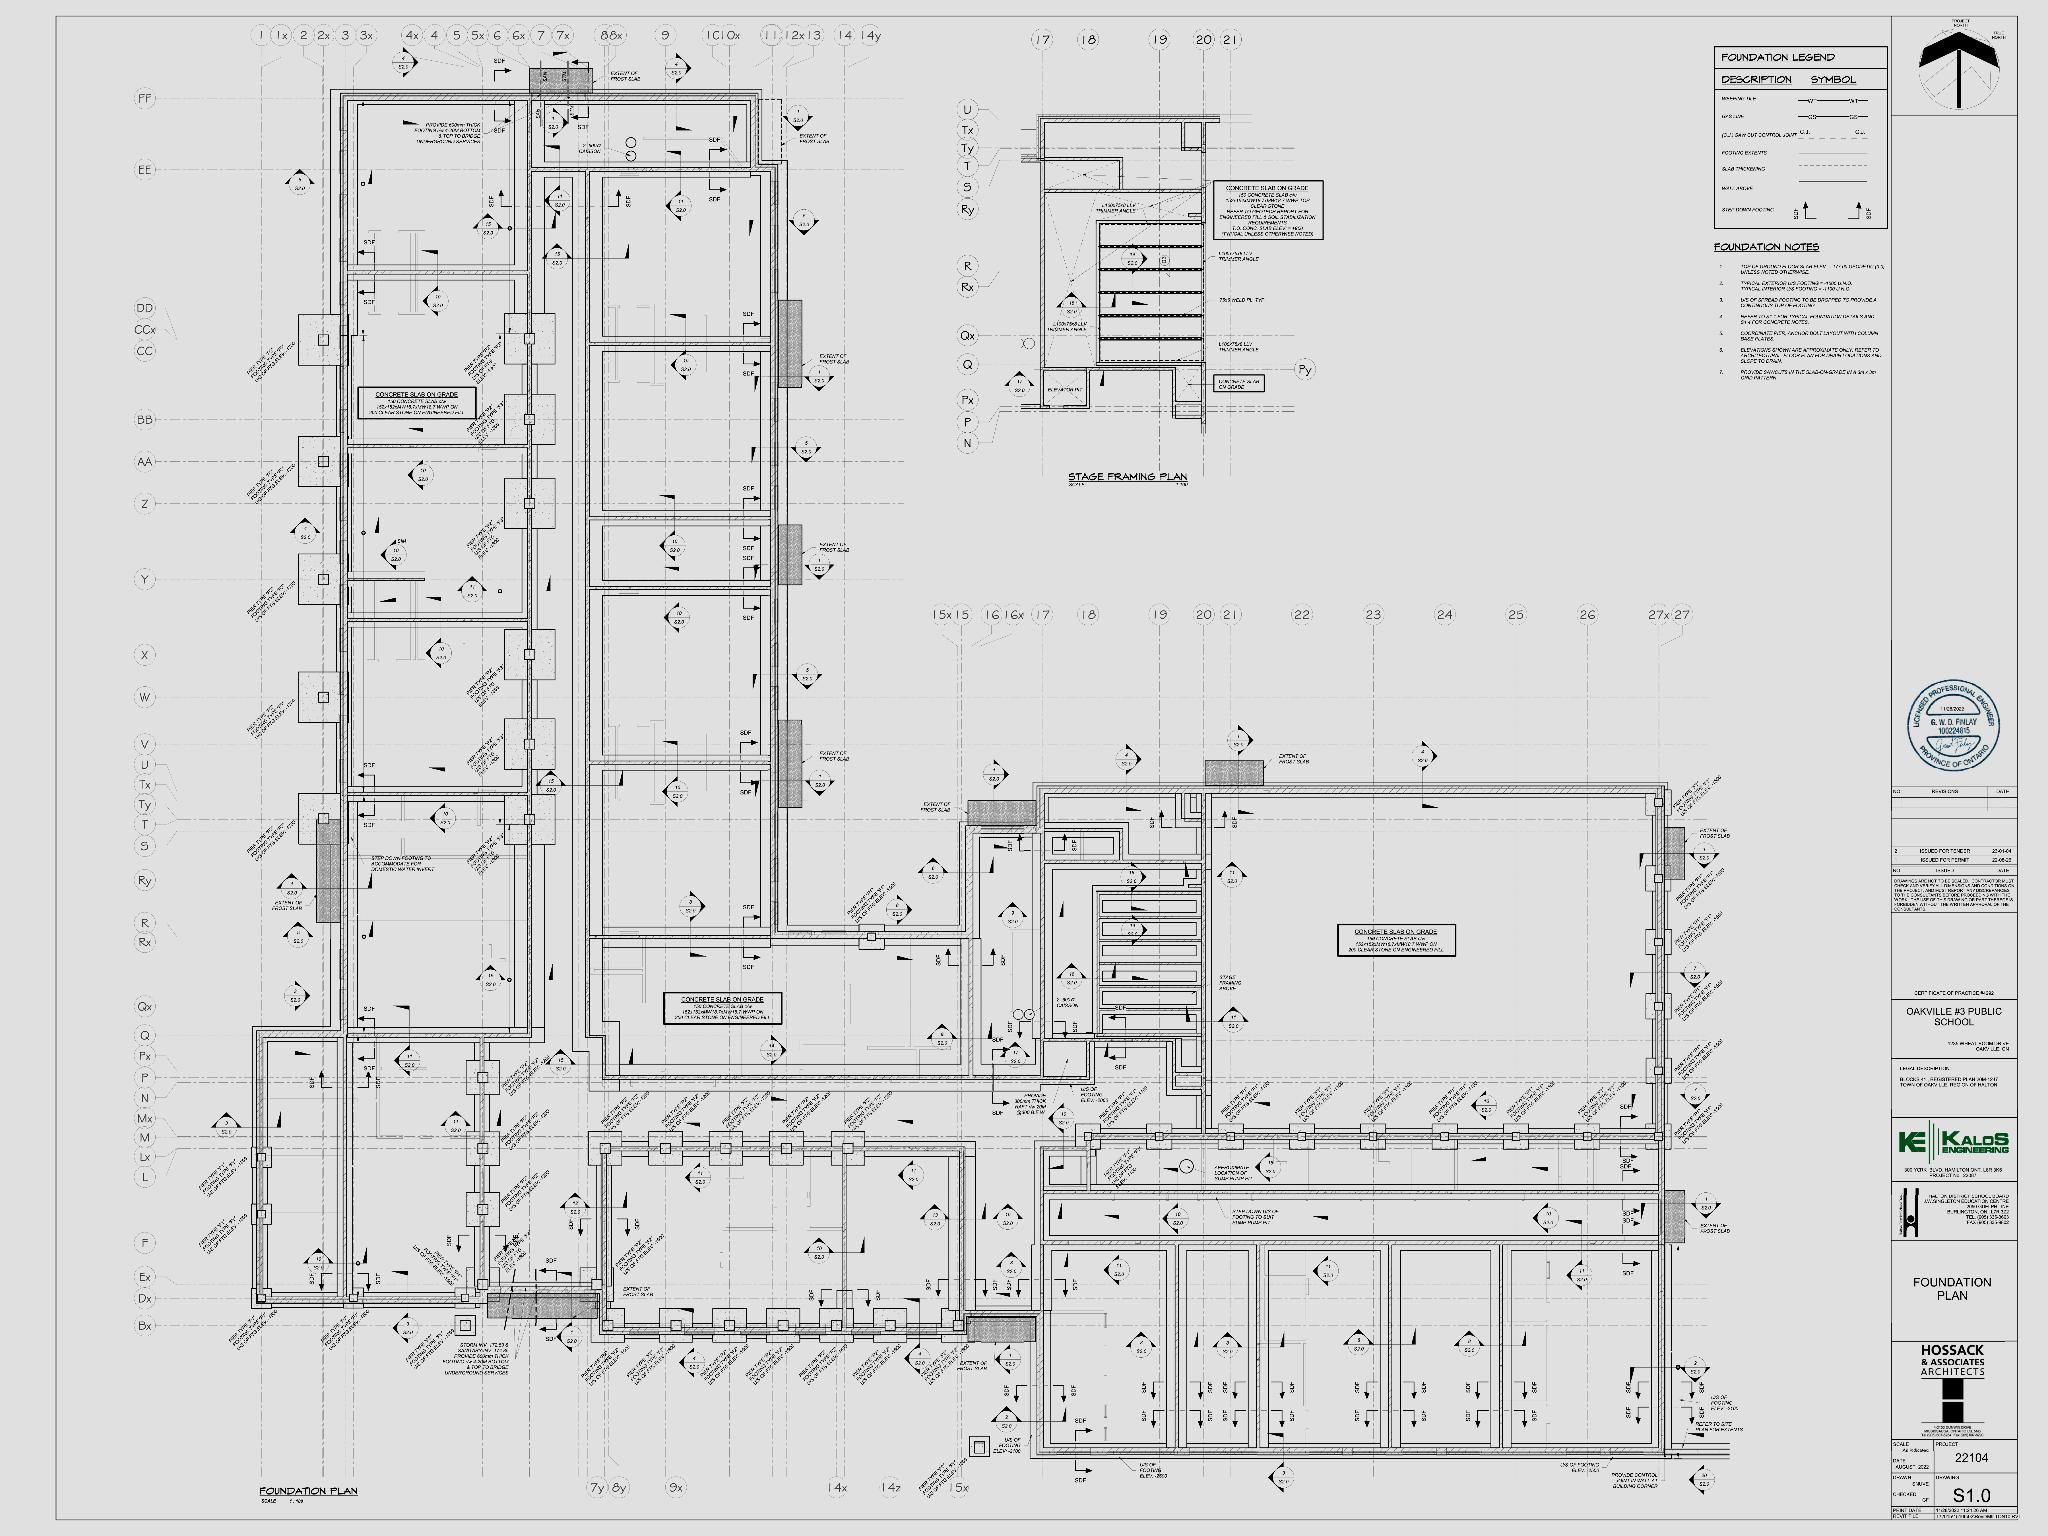detail: (1158, 254, 1172, 266)
elevation: (405, 458, 439, 494), (1407, 738, 1441, 773), (420, 283, 454, 318), (455, 573, 491, 606), (1253, 1150, 1287, 1184), (1217, 1003, 1252, 1036), (981, 757, 1013, 793), (801, 551, 837, 583), (1209, 1329, 1245, 1361), (995, 899, 1031, 931), (533, 767, 569, 799), (1677, 1354, 1714, 1385), (437, 1108, 474, 1139), (991, 1343, 1024, 1377), (659, 775, 692, 809), (788, 433, 823, 465), (895, 1157, 927, 1192), (428, 801, 460, 836), (1113, 741, 1144, 777), (1469, 1088, 1500, 1124), (988, 1405, 1026, 1434), (1529, 1202, 1562, 1235), (1159, 1202, 1192, 1235), (663, 189, 696, 222), (554, 1320, 586, 1354), (541, 240, 575, 272), (423, 636, 455, 670), (1688, 1189, 1723, 1220), (393, 1043, 424, 1078), (301, 1245, 336, 1276), (678, 1344, 708, 1380), (786, 206, 822, 236), (884, 891, 914, 927), (801, 1235, 837, 1265), (1216, 859, 1249, 891), (1117, 860, 1149, 893), (474, 961, 507, 993), (1003, 368, 1037, 399), (1266, 1460, 1297, 1494), (902, 1342, 933, 1376), (918, 1202, 952, 1233), (758, 1033, 789, 1067), (662, 600, 693, 634), (543, 183, 574, 217), (1687, 1462, 1717, 1497), (282, 978, 312, 1013), (803, 767, 838, 797), (1452, 1328, 1487, 1358), (1054, 961, 1089, 991), (998, 1040, 1033, 1070), (559, 1189, 591, 1221), (1342, 1327, 1375, 1358), (1045, 1102, 1076, 1135), (657, 529, 688, 562), (1225, 723, 1255, 757), (1687, 840, 1721, 870), (1678, 959, 1712, 989), (210, 1110, 244, 1140), (275, 870, 309, 900), (288, 515, 322, 545), (283, 167, 317, 197), (664, 51, 694, 85), (781, 103, 815, 133), (790, 661, 824, 691), (1565, 1258, 1595, 1292), (1103, 1253, 1133, 1287), (991, 1202, 1025, 1232), (545, 1047, 579, 1077), (281, 920, 316, 949), (669, 348, 698, 383), (542, 106, 571, 141), (1679, 1081, 1712, 1111), (917, 855, 950, 885), (925, 1022, 958, 1052), (683, 1161, 713, 1194), (379, 538, 409, 571), (391, 46, 420, 80), (1312, 1255, 1341, 1289), (802, 364, 837, 392), (1120, 242, 1149, 275), (1125, 1330, 1158, 1359), (1055, 291, 1089, 319), (392, 1311, 420, 1345), (995, 1250, 1027, 1279), (1120, 914, 1148, 947), (679, 890, 707, 923), (472, 212, 504, 240)
title: (1062, 468, 1191, 491), (256, 1482, 361, 1506)
